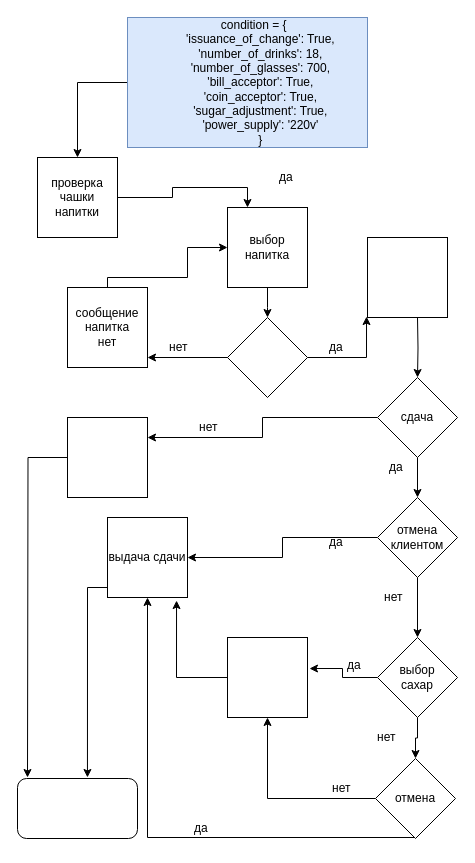
Image size: 475x863. Some labels were removed from this diagram. The centre of each missing label's shape, as x and y in pixels:
"конец сессии" belongs at (x=77, y=808).
"напиток" belongs at (x=267, y=357).
"получение напитка" belongs at (x=267, y=677).
"прием оплаты" belongs at (x=407, y=277).
"сообщение нет сдачи" belongs at (x=107, y=457).
